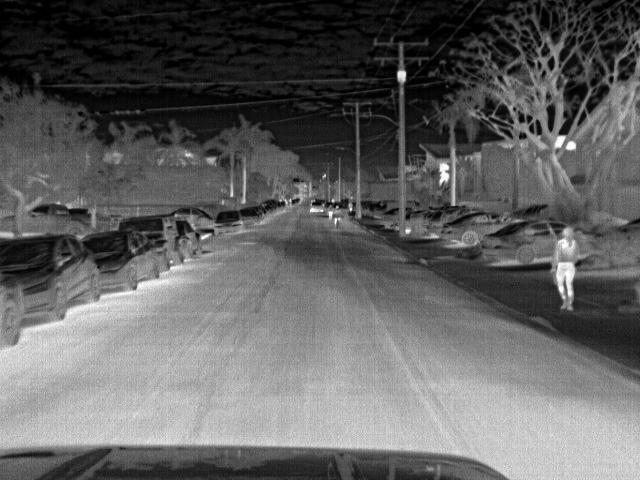car: (1, 234, 101, 324), (78, 230, 163, 292), (115, 211, 181, 270), (481, 216, 552, 268), (24, 202, 93, 240), (438, 210, 509, 246), (174, 220, 203, 257), (212, 208, 245, 236), (164, 207, 212, 225), (380, 205, 400, 230), (236, 206, 259, 225), (306, 198, 326, 214), (260, 198, 278, 212)
person: (550, 225, 579, 314)
